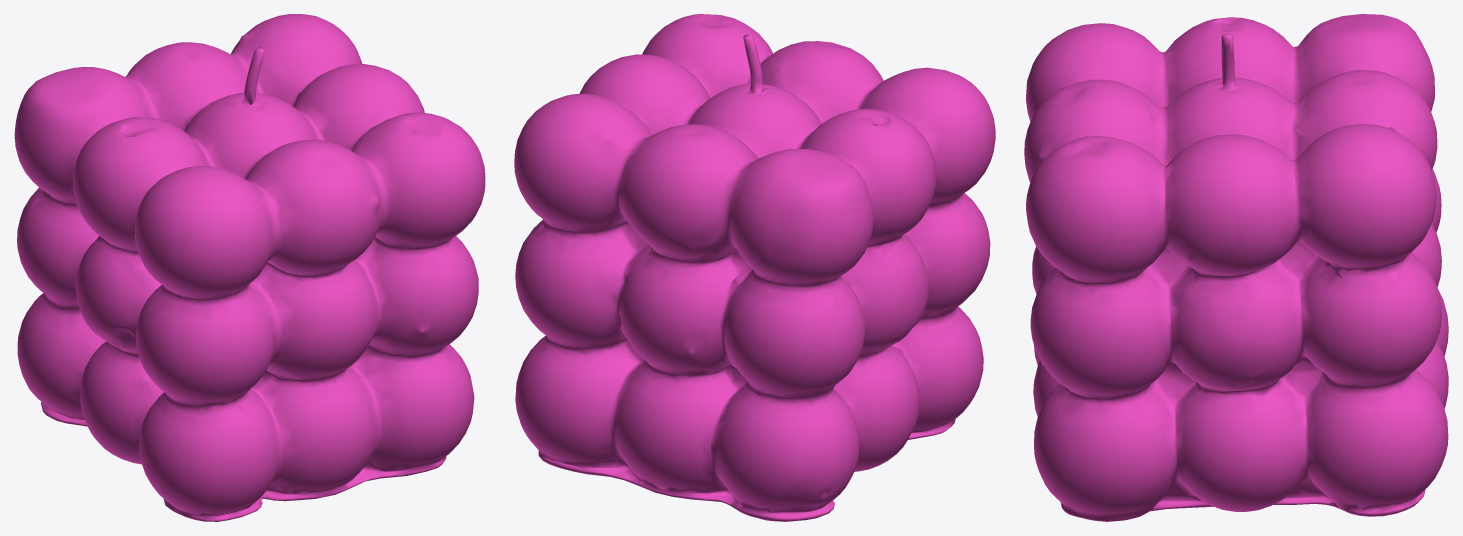
The model's file is vela6.glb.
The picture shows the model from 3 angles, left to right: view 1: azimuth 30°, elevation 25°; view 2: azimuth 150°, elevation 25°; view 3: azimuth 270°, elevation 25°; orthographic projection. The views are drawn at different scales.
Visible parts, largest first — view 1: bolitas; view 2: bolitas; view 3: bolitas.
Boxes of the visible parts, x1=… form: bolitas: x1=14, y1=14, x2=485, y2=521; bolitas: x1=514, y1=14, x2=995, y2=521; bolitas: x1=1024, y1=14, x2=1448, y2=521.
Bounding box in the file's own units: 3.1 × 3.49 × 3.15.
